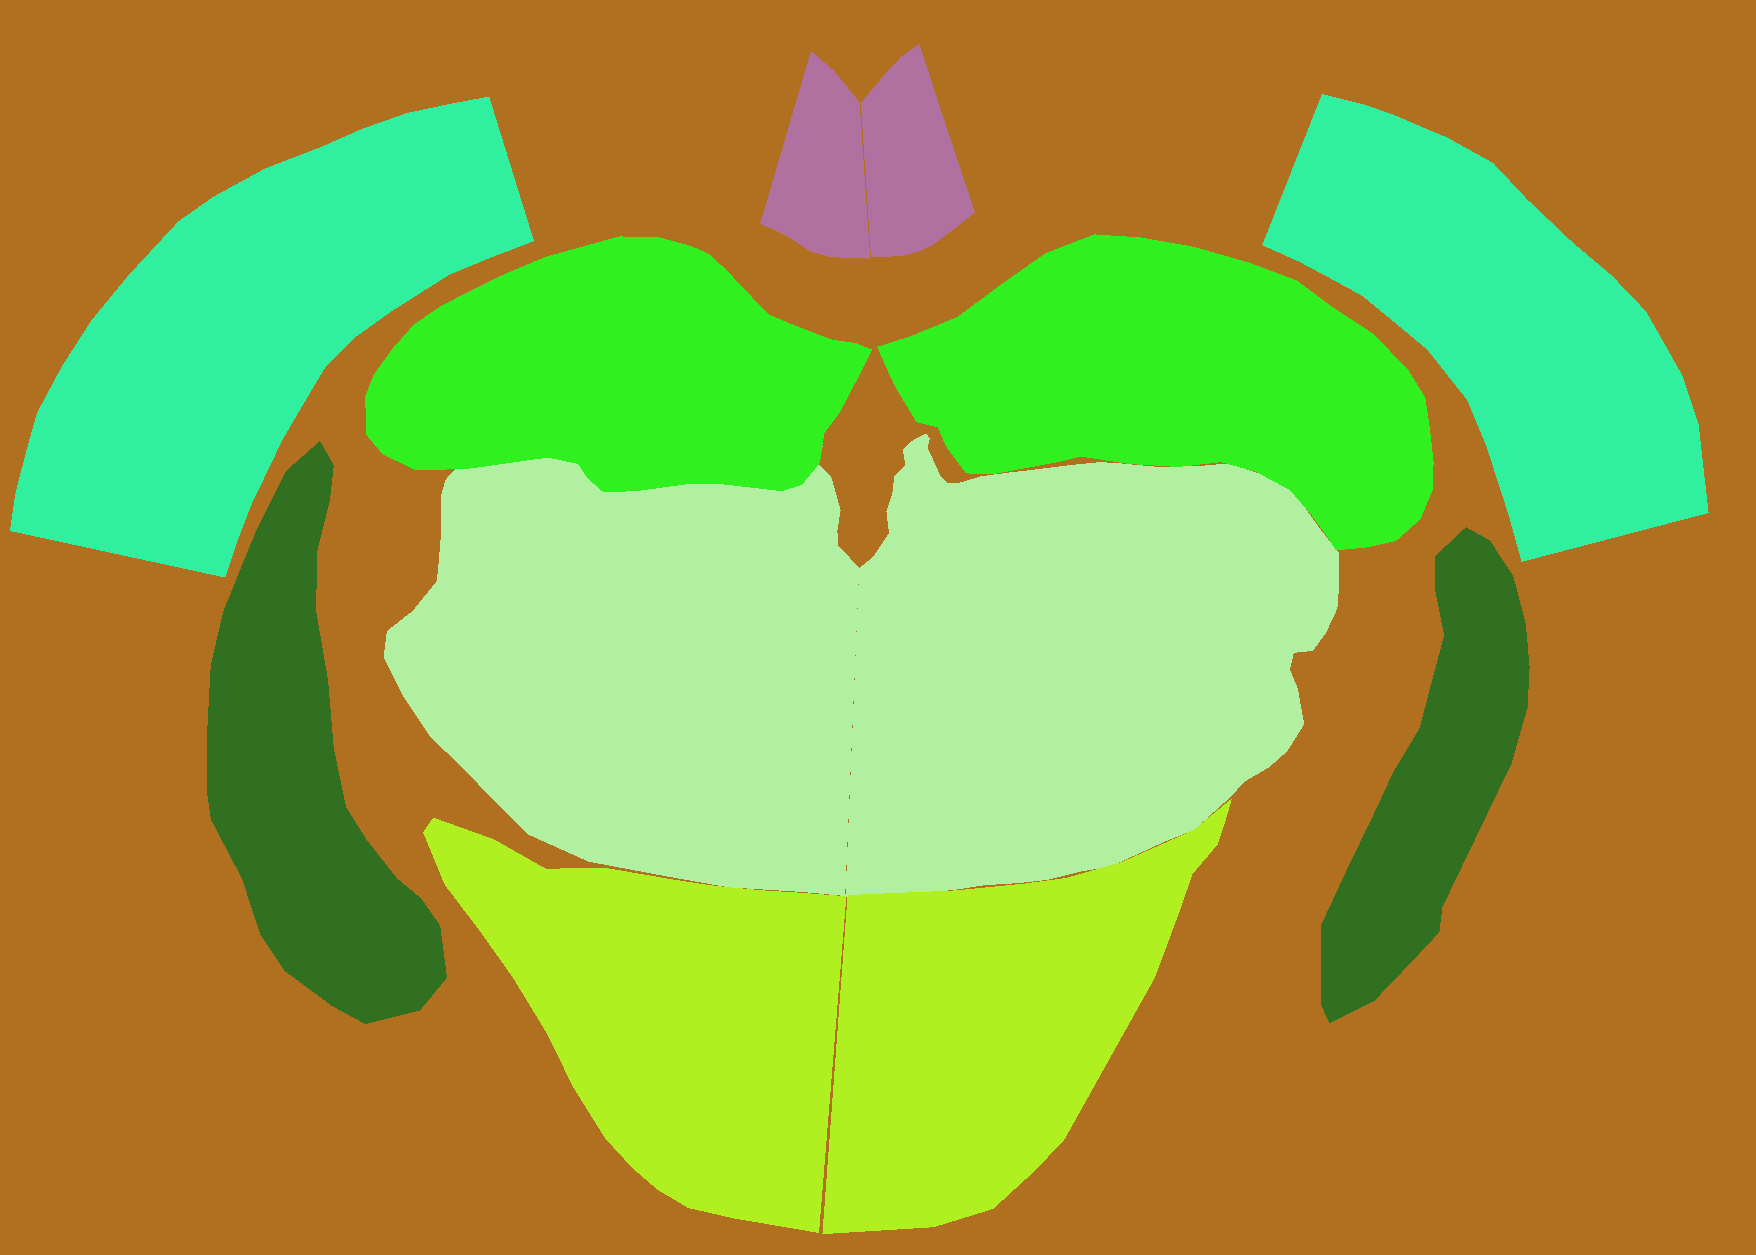Cerebral nuclei: (206, 441, 447, 1024), (1321, 527, 1531, 1023)
Hippocampal formation: (877, 234, 1434, 550), (365, 236, 872, 492)
Hypothalamus: (822, 799, 1232, 1235), (422, 818, 846, 1233)
Retrosplenial area: (861, 43, 975, 257), (761, 52, 871, 259)
Somatosensory area: (10, 96, 534, 579), (1262, 94, 1708, 562)
Thalamus: (845, 435, 1339, 896), (384, 437, 860, 896)
